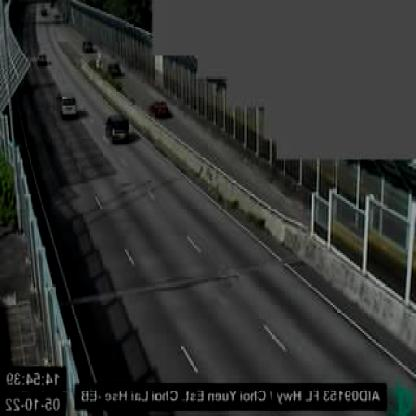Car: (107, 114, 131, 144), (58, 93, 76, 118), (150, 101, 172, 116)
